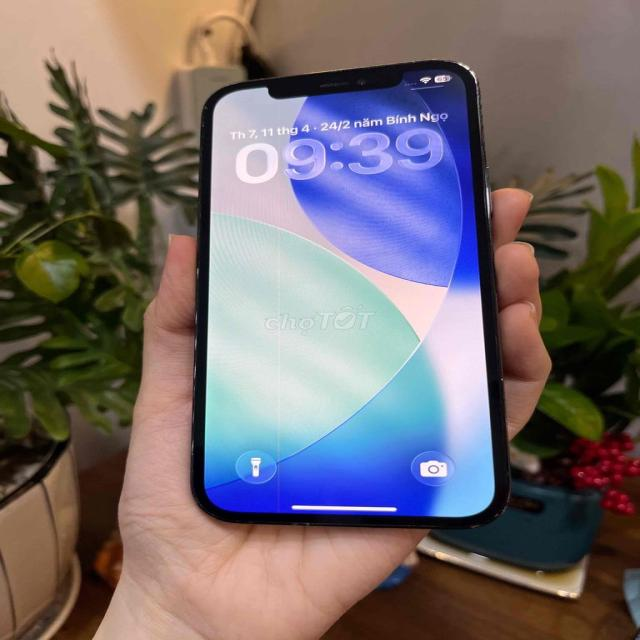screen_defect: (264, 93, 287, 510)
